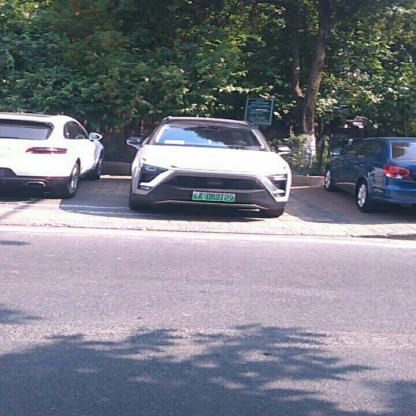lp: (192, 191, 235, 201)
